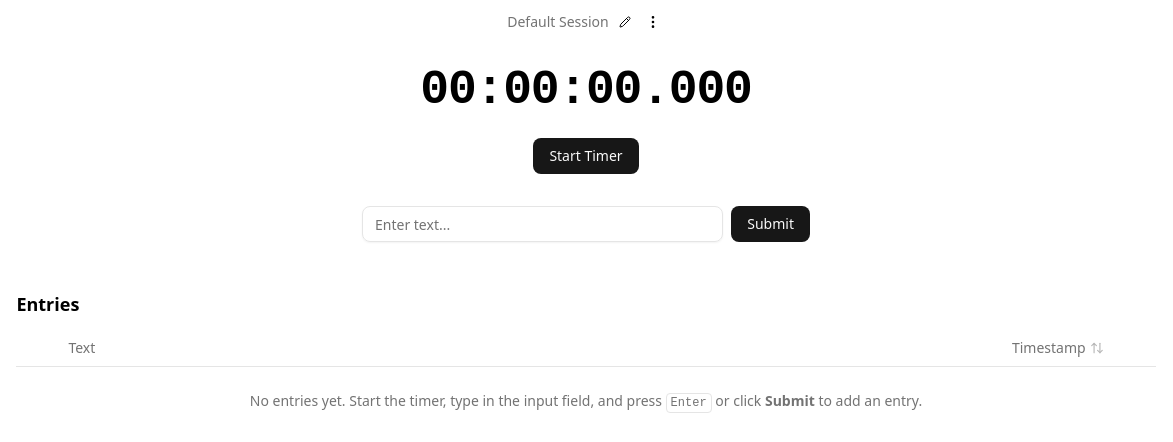
it: Index › submits an entry with text and current timestamp
Click the button with test id "timer-start-button". click: [586, 156]
box: left=533, top=138, right=639, bottom=174
Wait 10 ms
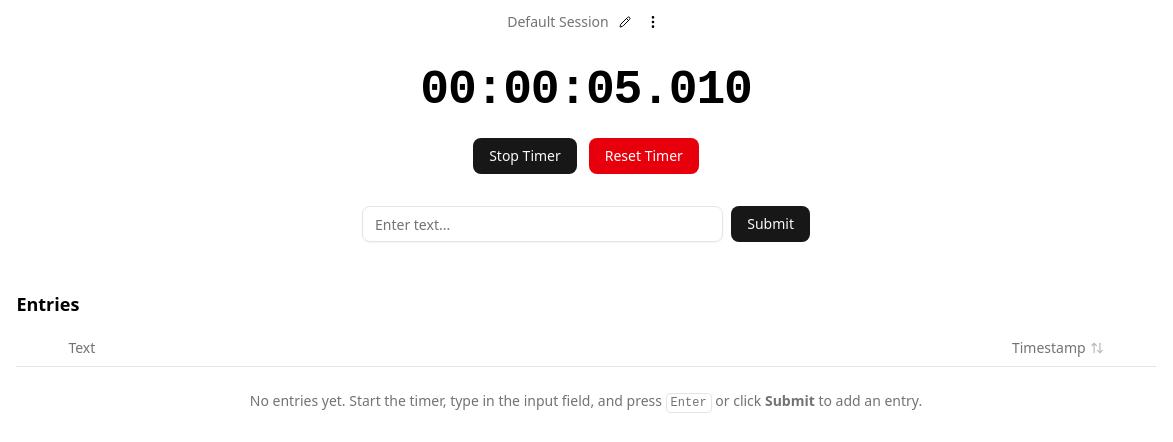
Type "test entry" into the field with test id "timer-input". click: [543, 224]
box: left=362, top=206, right=723, bottom=242
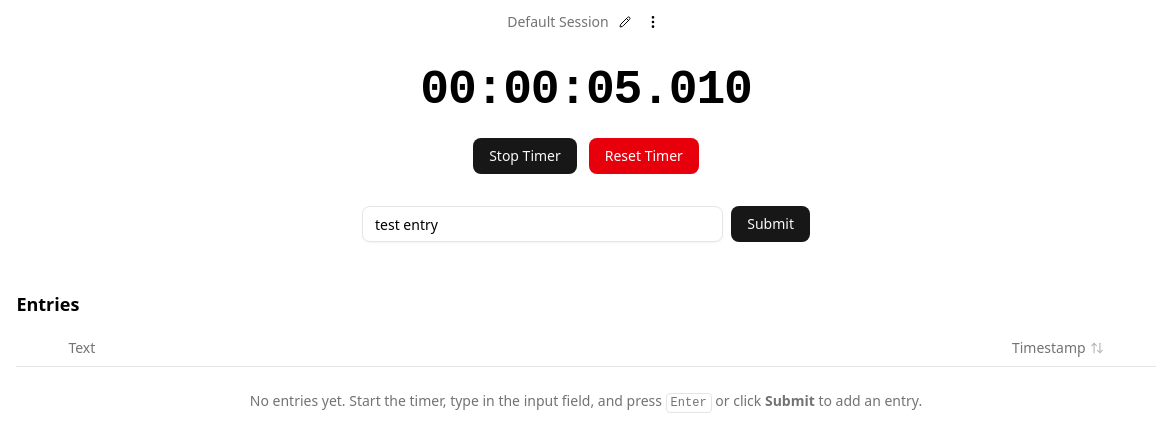
Click the button with test id "timer-submit-button". click: [771, 224]
box: left=731, top=206, right=810, bottom=242
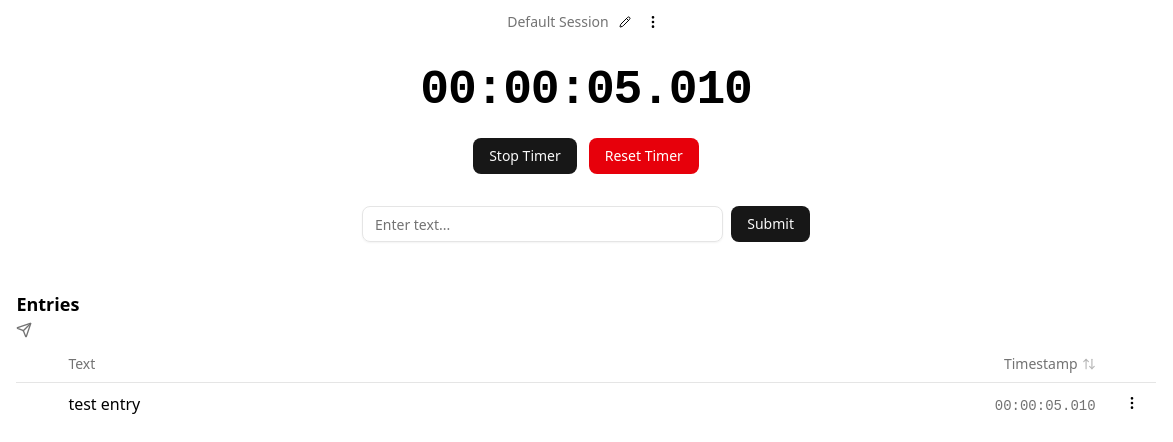
Check: the number of rows with test id "timer-entry" is 1, box left=16, top=382, right=1156, bottom=425
Check: the row with test id "timer-entry" shows "test entry", box left=68, top=393, right=140, bottom=415
Check: the row with test id "timer-entry" shows "00:00:05.010", box left=995, top=398, right=1096, bottom=414
